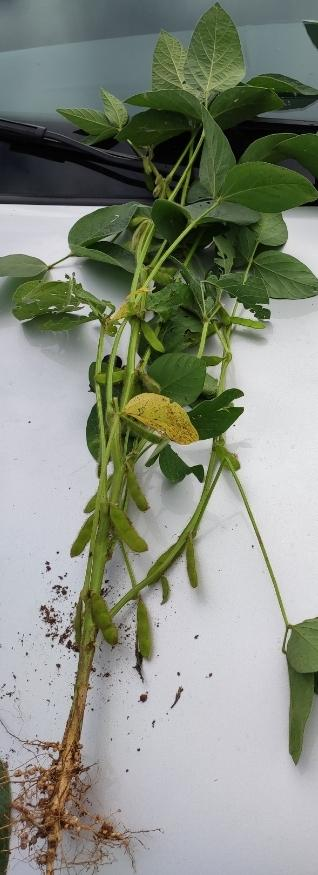soja: (81, 587, 130, 656), (117, 464, 167, 514), (130, 594, 164, 659), (114, 503, 151, 559), (65, 507, 102, 560), (181, 534, 214, 589), (82, 467, 115, 514), (123, 416, 170, 448), (216, 442, 252, 482), (96, 367, 137, 397), (138, 319, 168, 354), (138, 271, 177, 292), (232, 312, 264, 337), (152, 576, 176, 609), (139, 367, 165, 395), (152, 262, 184, 282), (197, 353, 232, 370), (139, 156, 157, 176), (212, 308, 229, 326), (105, 402, 116, 428), (146, 184, 162, 201)
